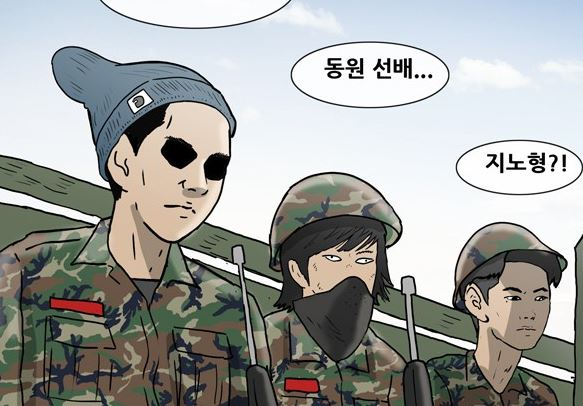hat: (45, 35, 238, 151)
